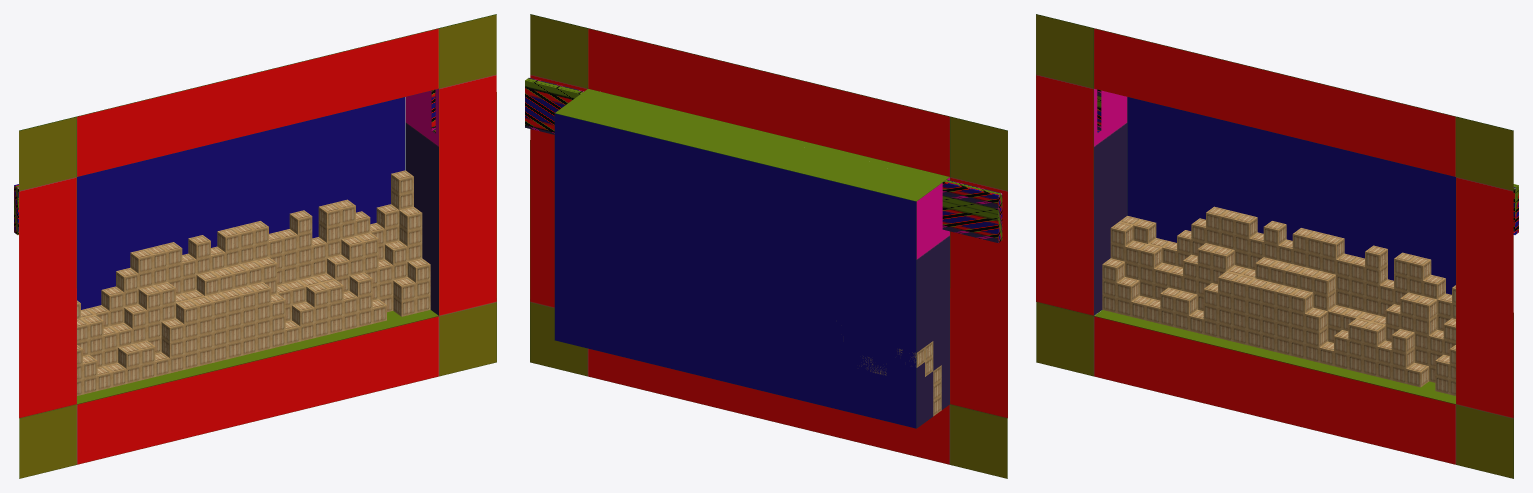
The model's file is TScene.FBX.
The picture shows the model from 3 angles, left to right: view 1: azimuth 30°, elevation 25°; view 2: azimuth 150°, elevation 25°; view 3: azimuth 330°, elevation 25°; orthographic projection.
Parts seen in each view (by area): view 1: Box758; view 2: Box758; view 3: Box758.
Part boxes in pixels (<box>): Box758: <box>14,14,496,478</box>; Box758: <box>525,14,1007,478</box>; Box758: <box>1036,14,1518,478</box>.
Bounding box in the file's own units: 21.49 × 14.97 × 2.6.
2 materials, 2 textured.
